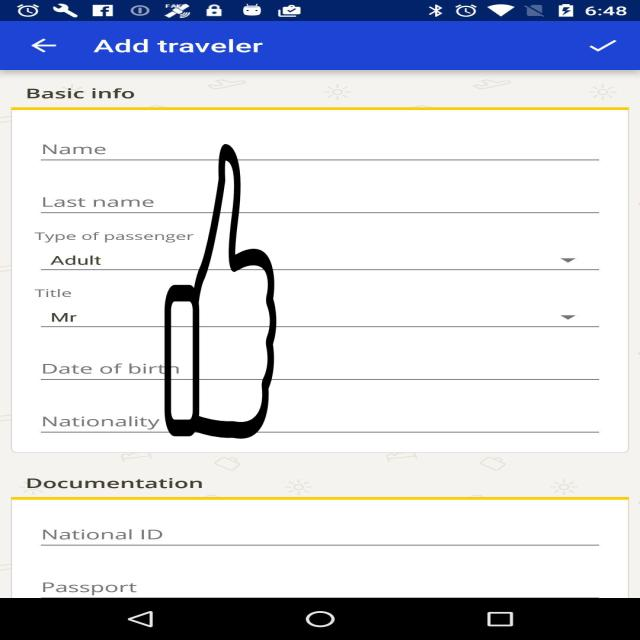privacy zuckering: (163, 144, 278, 439)
